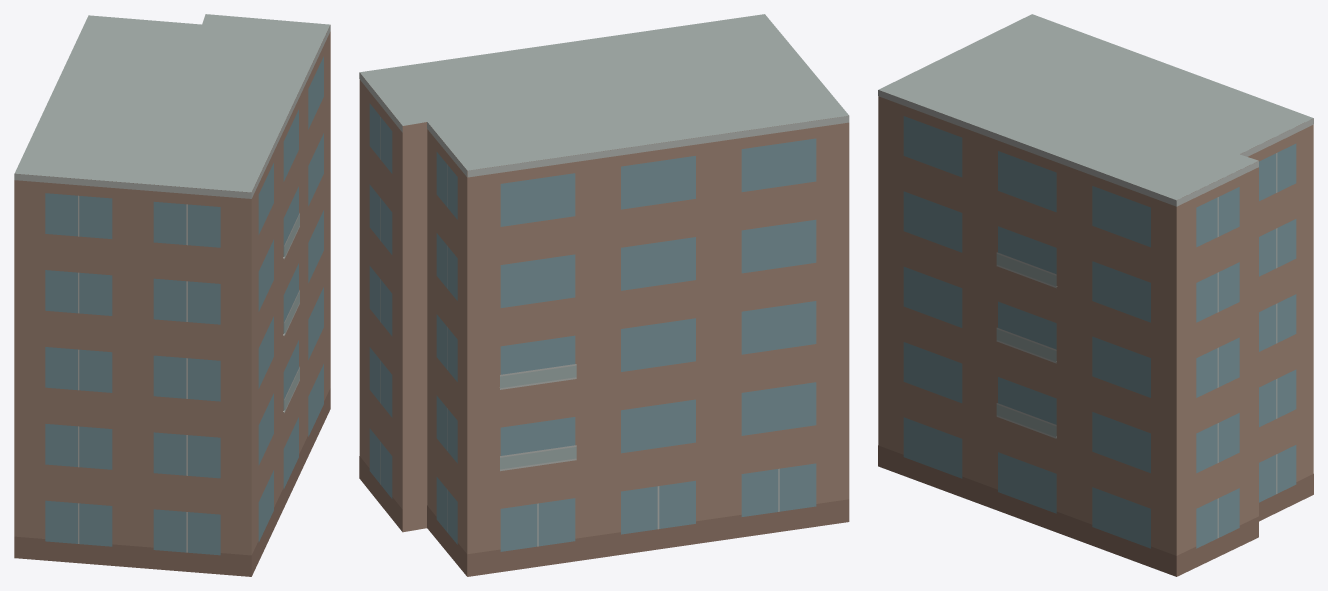
File: survey-upis-32892520.glb
3 renders of one model, left to right at view 1: azimuth 30°, elevation 25°; view 2: azimuth 150°, elevation 25°; view 3: azimuth 270°, elevation 25°, orthographic. The views are drawn at different scales.
Visible parts, largest first — view 1: survey-upis-32892520.tmp; view 2: survey-upis-32892520.tmp; view 3: survey-upis-32892520.tmp.
Part boxes in pixels (bbox=[...]): survey-upis-32892520.tmp: bbox=[14, 14, 330, 576]; survey-upis-32892520.tmp: bbox=[359, 14, 849, 576]; survey-upis-32892520.tmp: bbox=[878, 14, 1313, 576].
Bounding box in the file's own units: 15.29 × 14.4 × 15.1.
